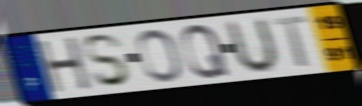H: (35, 35, 94, 96)
O: (135, 27, 185, 84)
Q: (180, 22, 232, 81)
S: (82, 32, 134, 89)
T: (272, 14, 311, 69)
U: (225, 15, 280, 77)
